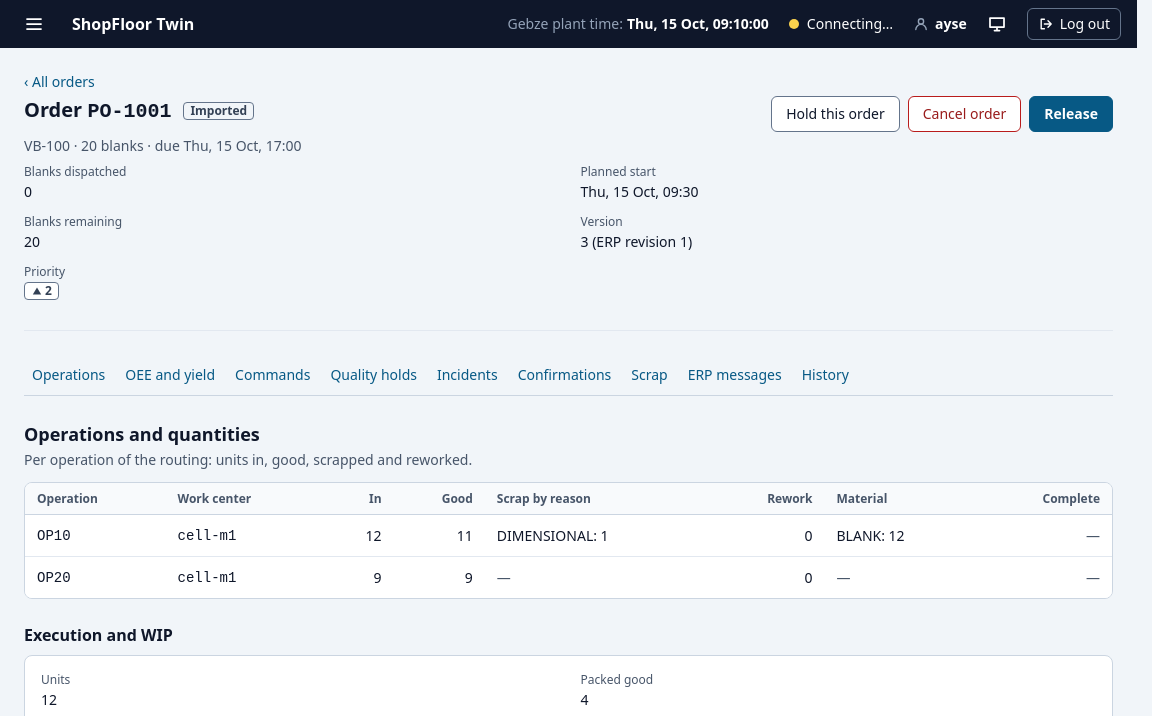
Test: order detail › releases with the version read
This screenshot has width=1152, height=716.
expect the button with test id "action-cancel" is shown: met, box [908,96,1021,132]
Click the button with test id "action-release": (1071, 114) [1029,96,1113,132]
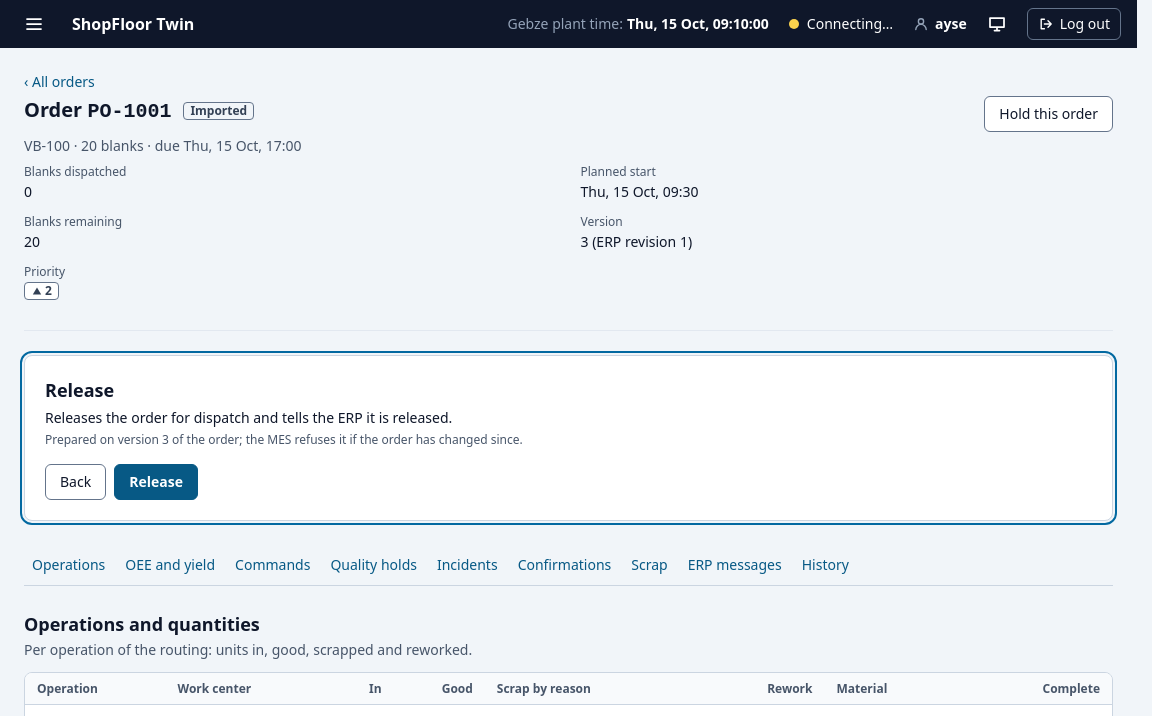
Click the button with test id "action-submit": (156, 482) [114,464,198,500]
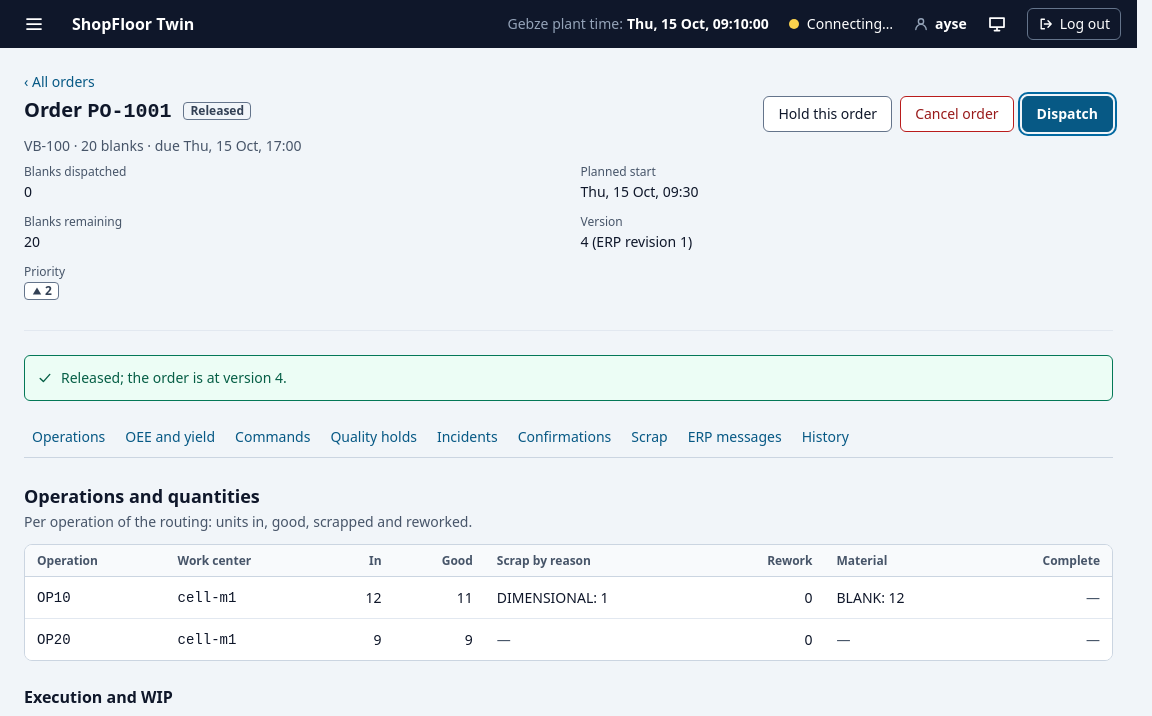
expect the message with test id "action-done" shows "version 4": met, box [61,368,287,387]
